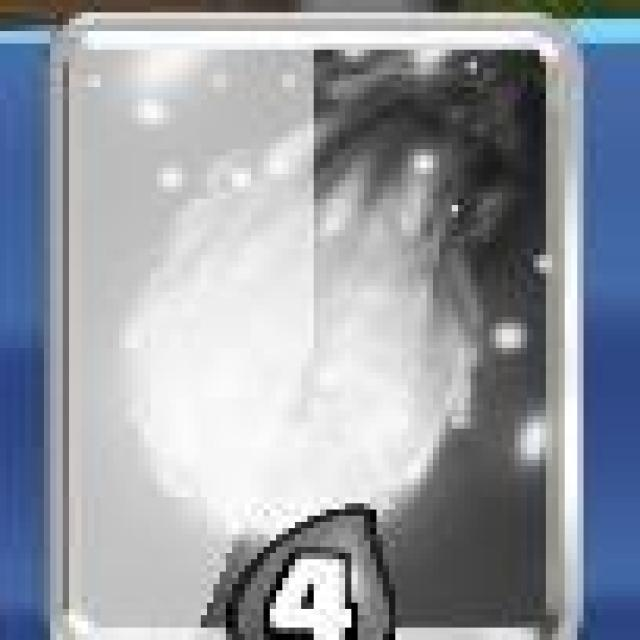Fireball: (46, 10, 583, 636)
